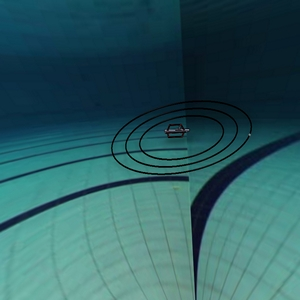circle: (104, 98, 261, 185)
submarine: (160, 120, 200, 144)
